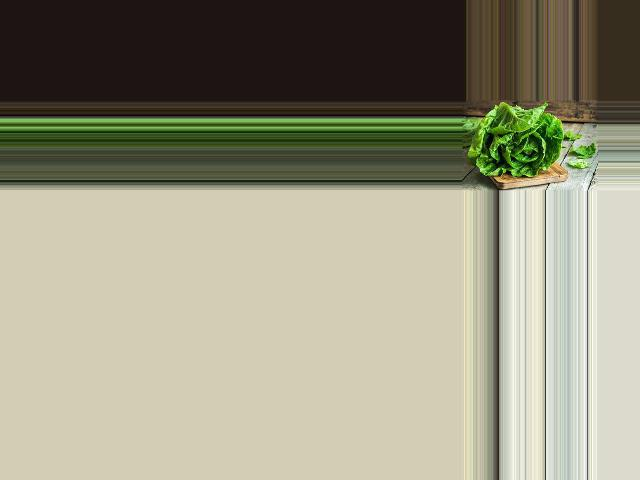lettuce: (466, 104, 559, 181)
